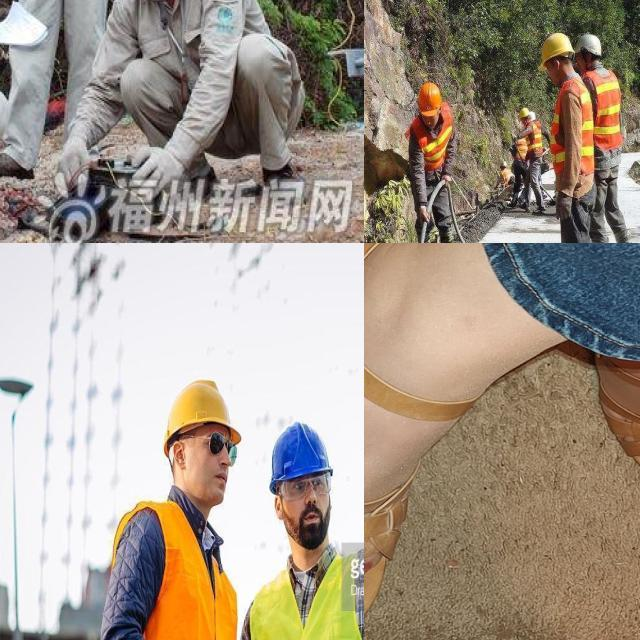No_Ear-Protection: (169, 438, 189, 472), (270, 492, 286, 525)
Sandals: (364, 243, 487, 640)
face_nomask: (172, 420, 236, 510), (274, 468, 338, 546), (546, 57, 566, 87), (418, 109, 441, 128)
glasses: (280, 471, 334, 504), (204, 428, 239, 468)
hand_glove: (126, 127, 206, 199), (56, 123, 98, 194), (554, 185, 577, 230)
hand_noglove: (416, 200, 434, 227), (440, 176, 454, 191)
head_helmet: (170, 379, 244, 443), (264, 420, 340, 476), (415, 82, 442, 114), (538, 30, 572, 54), (583, 34, 605, 56), (516, 107, 532, 119), (498, 158, 508, 168)
person: (105, 0, 298, 176), (137, 377, 241, 640), (255, 420, 364, 640), (538, 34, 594, 243), (585, 35, 640, 243), (18, 0, 100, 139), (408, 79, 460, 243), (515, 108, 549, 205), (493, 149, 518, 200)
vest: (143, 511, 231, 640), (251, 572, 364, 640), (554, 84, 593, 186), (588, 74, 624, 148), (419, 132, 452, 172), (512, 142, 528, 158), (502, 170, 514, 185)
